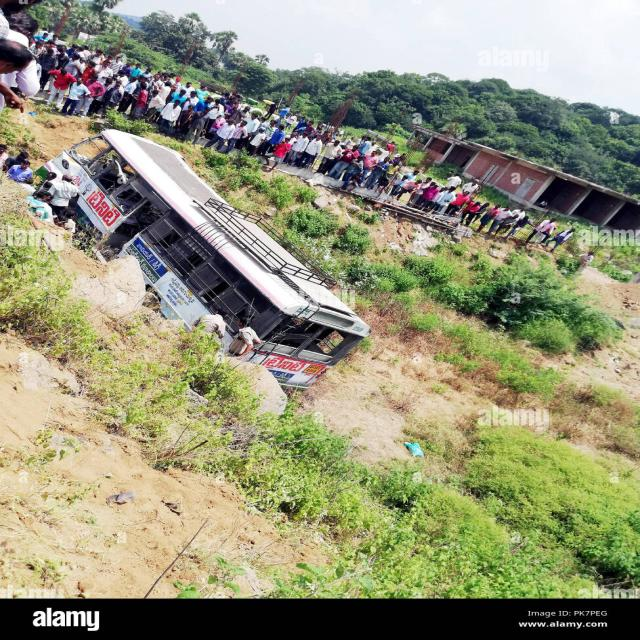accident: (46, 130, 371, 388)
